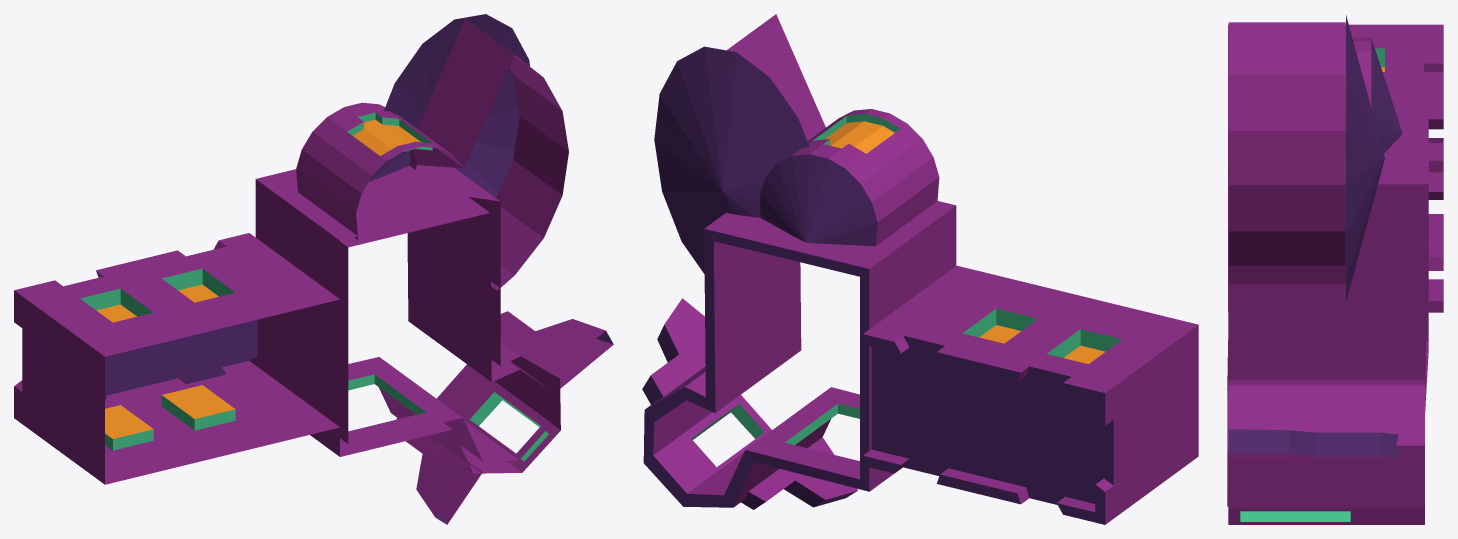
Rendered from Drukarnia trzebińskich Tier 2.fbx.
3 renders of one model, left to right at view 1: azimuth 30°, elevation 25°; view 2: azimuth 150°, elevation 25°; view 3: azimuth 270°, elevation 25°, orthographic. The views are drawn at different scales.
Visible parts, largest first — view 1: duzy_dom_Cube_001; view 2: duzy_dom_Cube_001; view 3: duzy_dom_Cube_001.
Boxes of the visible parts, x1,y1,x2,y2 form: duzy_dom_Cube_001: (14,14,613,524); duzy_dom_Cube_001: (642,14,1198,524); duzy_dom_Cube_001: (1227,15,1443,524).
Size of the model in its own units: 4.18 by 3.58 by 1.3.
